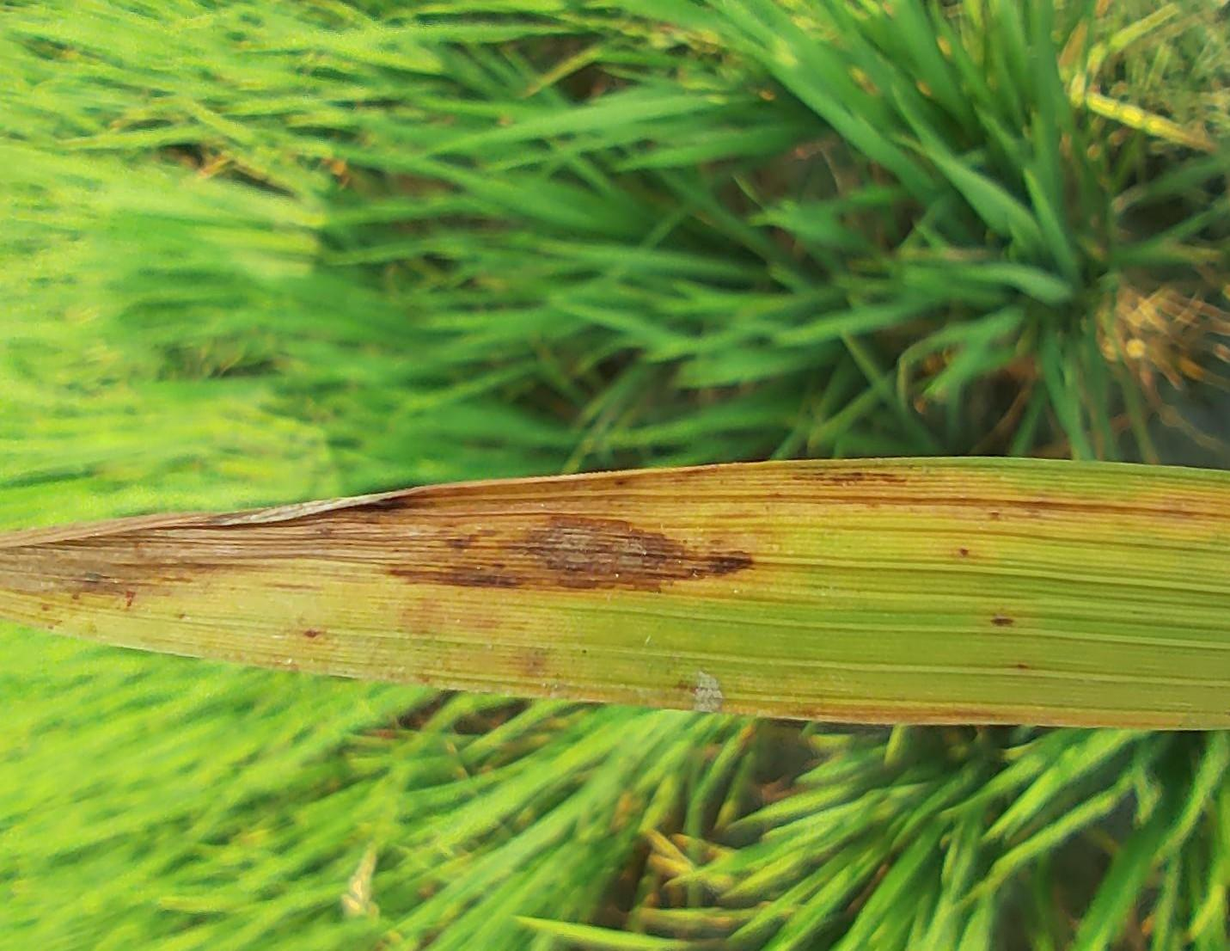LEAF: (0, 459, 1229, 727)
LEAF BLAST: (501, 517, 749, 596), (388, 554, 516, 593)
